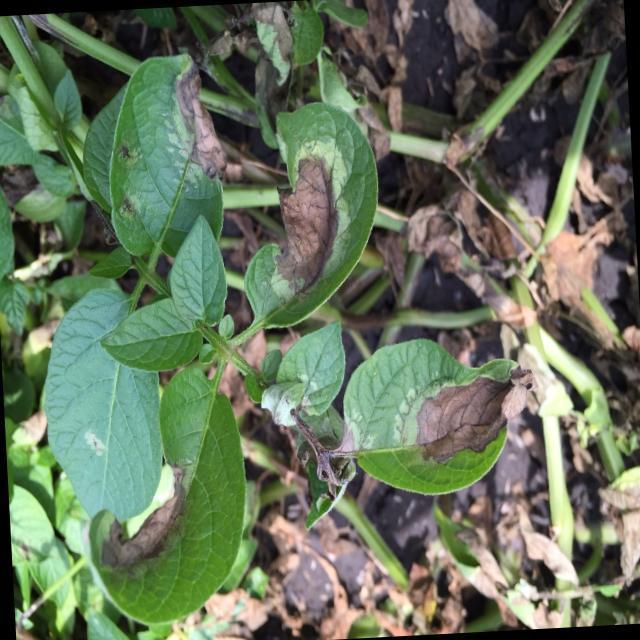Healthy Leaf: (99, 297, 212, 378), (170, 214, 228, 330)
